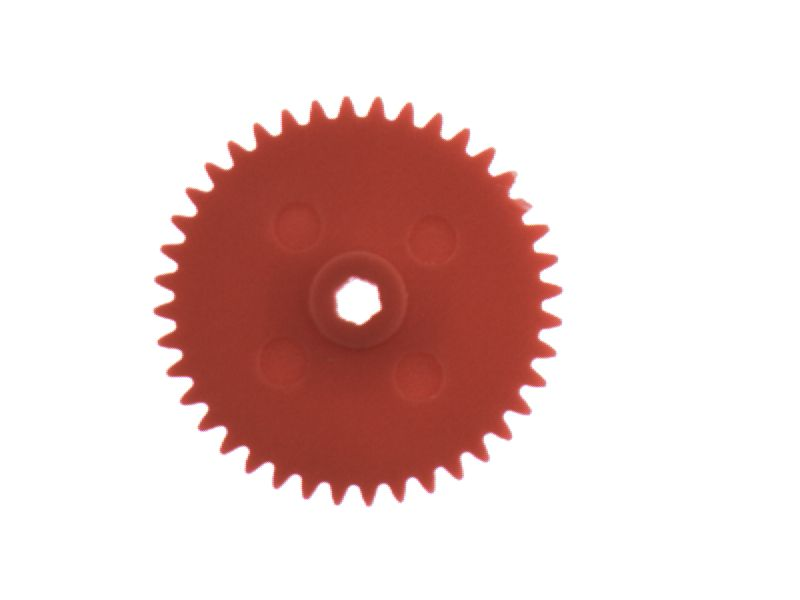defect_break: (499, 185, 544, 221)
